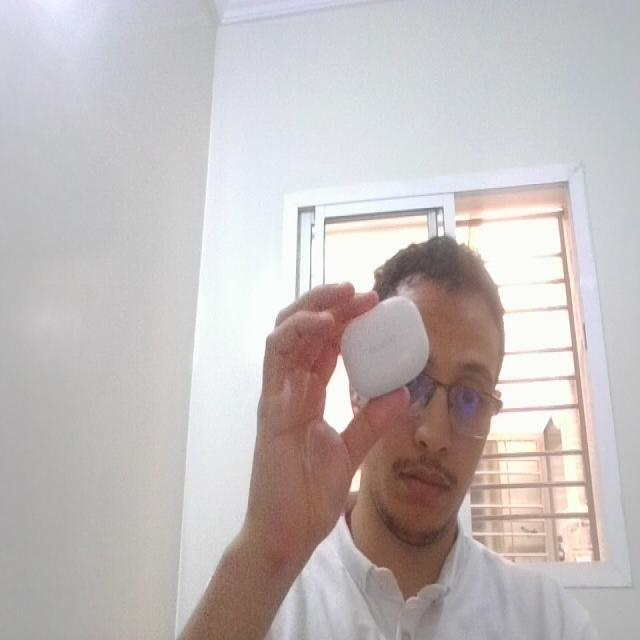airpods: (334, 298, 433, 402)
